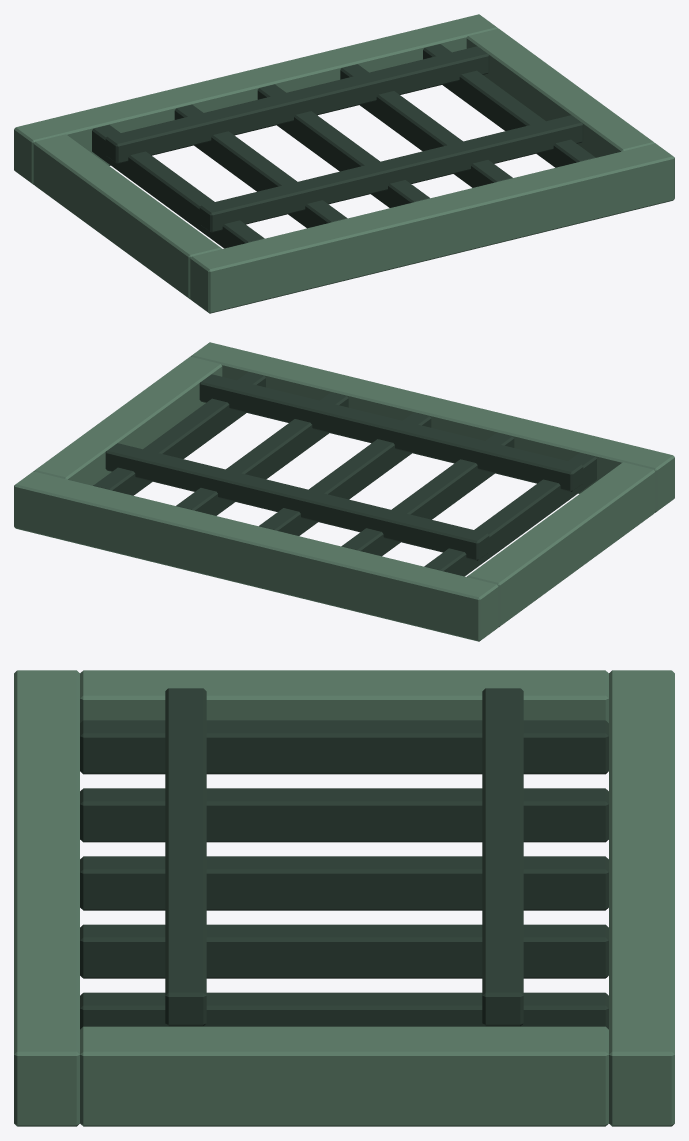
3 renders of one model, top to bottom at view 1: azimuth 30°, elevation 25°; view 2: azimuth 150°, elevation 25°; view 3: azimuth 270°, elevation 25°, orthographic. The views are drawn at different scales.
Parts seen in each view (by area): view 1: PT-bronze, PT-bronze_dark; view 2: PT-bronze, PT-bronze_dark; view 3: PT-bronze_dark, PT-bronze.
Part boxes in pixels (x1=…): PT-bronze: x1=14, y1=14, x2=674, y2=313; PT-bronze_dark: x1=92, y1=44, x2=595, y2=248; PT-bronze: x1=14, y1=342, x2=674, y2=641; PT-bronze_dark: x1=93, y1=372, x2=596, y2=576; PT-bronze_dark: x1=80, y1=688, x2=608, y2=1029; PT-bronze: x1=14, y1=670, x2=674, y2=1126.
Bounding box in the file's own units: 1.1 × 0.1275 × 0.8.
